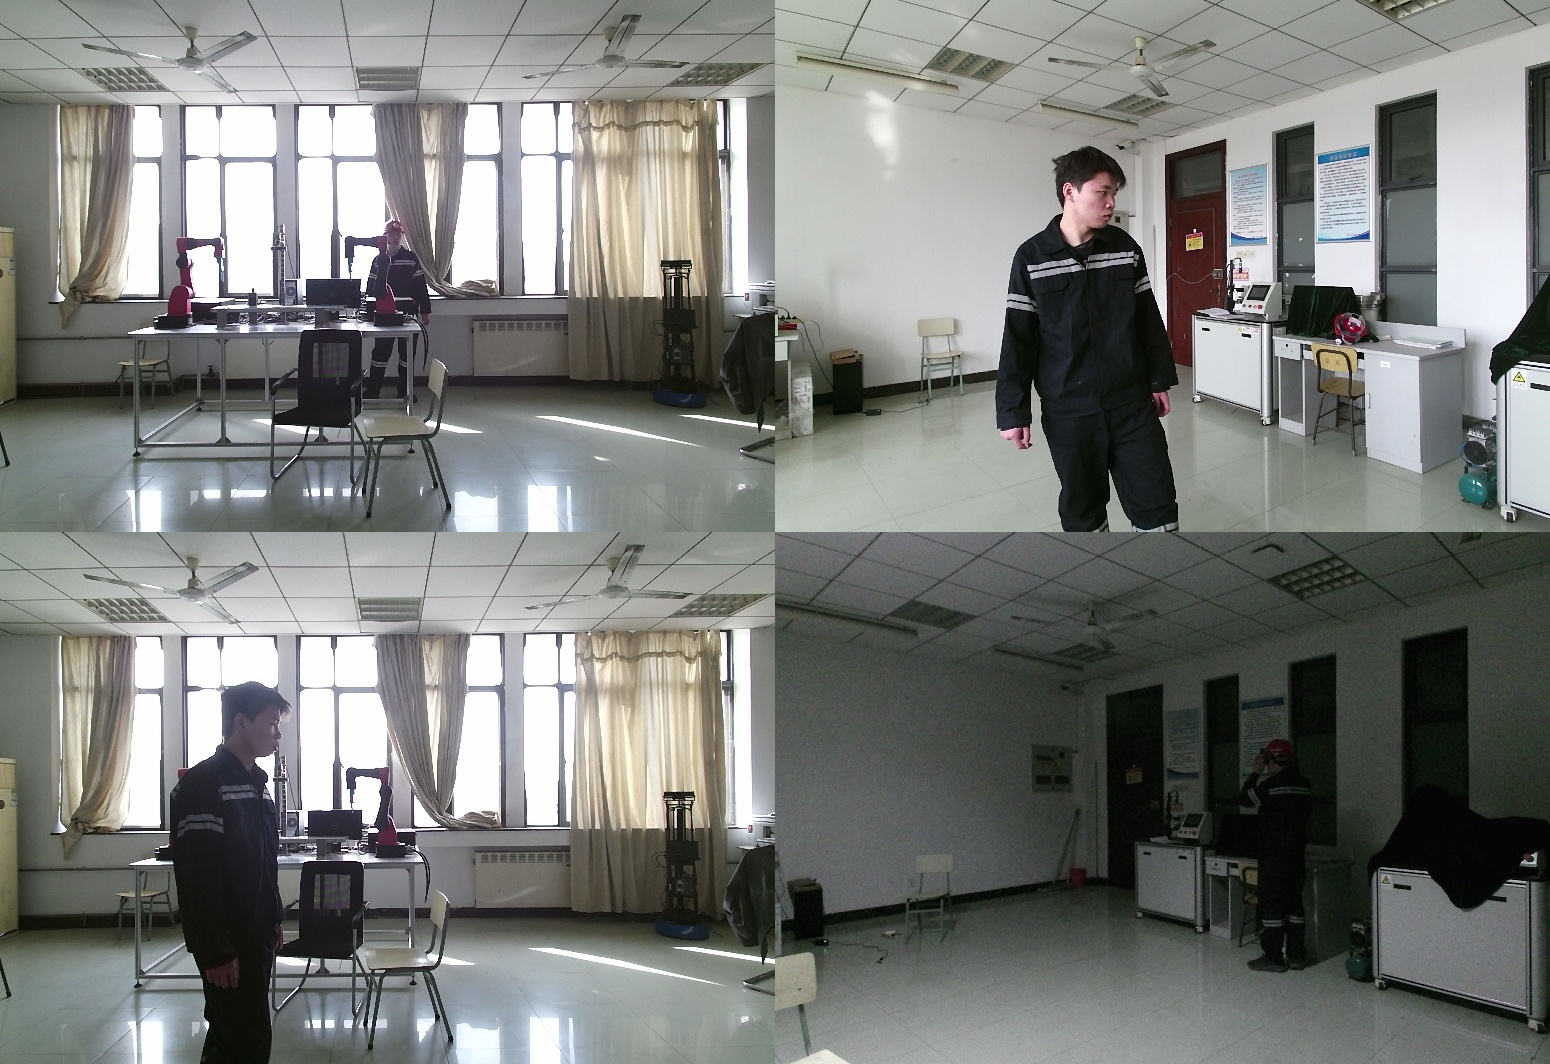person: (999, 146, 1205, 532), (170, 683, 290, 1064), (1243, 737, 1333, 971), (363, 220, 431, 400)
